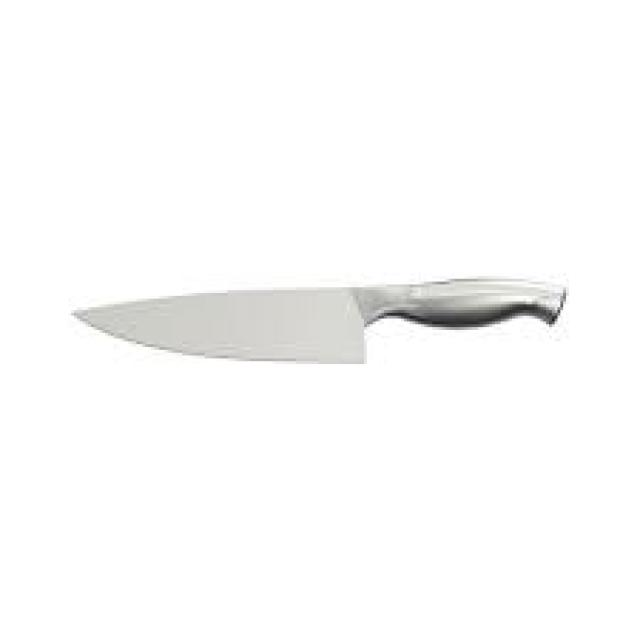Knife: (68, 276, 566, 364)
